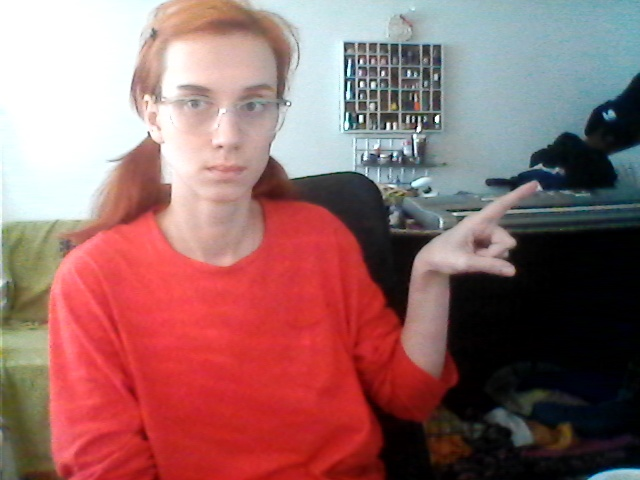on: (385, 174, 553, 428)
